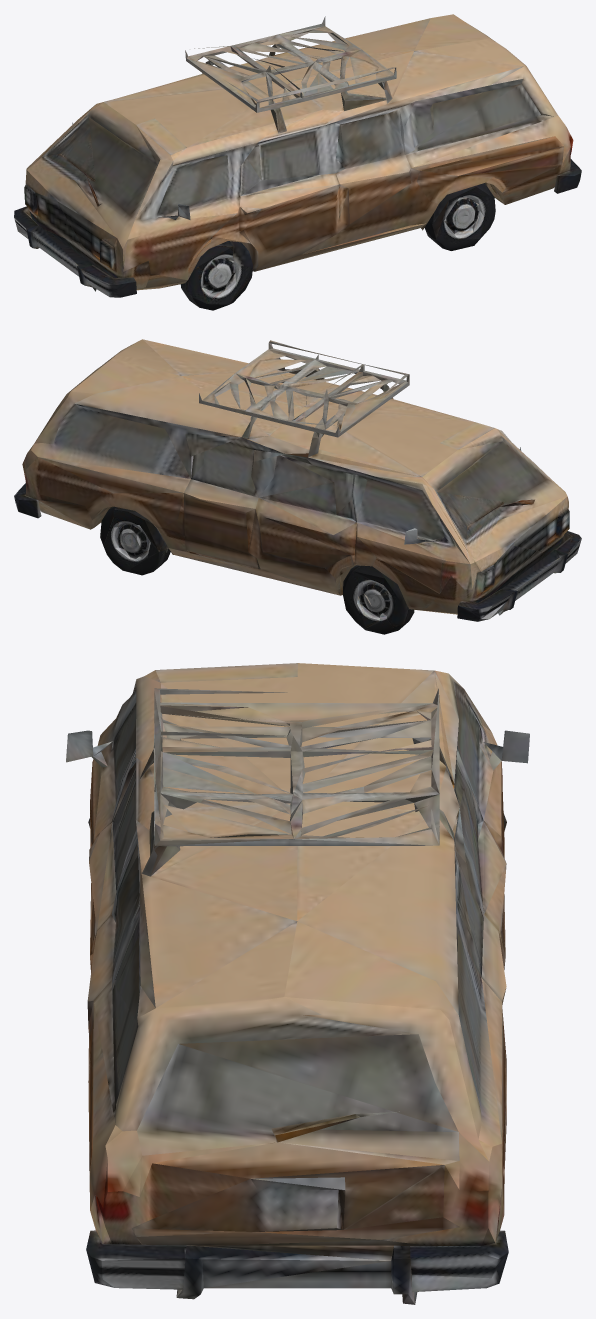
Rendered from wagon.glb.
3 renders of one model, top to bottom at view 1: azimuth 30°, elevation 25°; view 2: azimuth 150°, elevation 25°; view 3: azimuth 270°, elevation 25°, orthographic. The views are drawn at different scales.
Bounding box in the file's own units: 1.9 × 0.7159 × 0.7928.
Materials: 1 (1 with a texture image).
